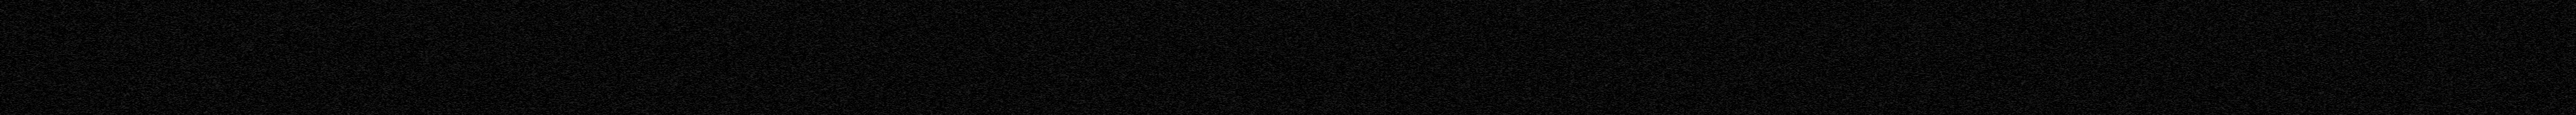wv_am: (278, 0, 281, 115)
wv_cw: (396, 0, 399, 115), (636, 0, 639, 115)
wv_lsb: (2137, 71, 2147, 115), (2137, 0, 2149, 38), (2137, 39, 2149, 48), (2137, 48, 2146, 49), (2141, 67, 2146, 69)
wv_wbfm: (823, 0, 1207, 115), (793, 3, 810, 5), (810, 3, 823, 5), (1198, 38, 1209, 39), (1211, 38, 1216, 39)
